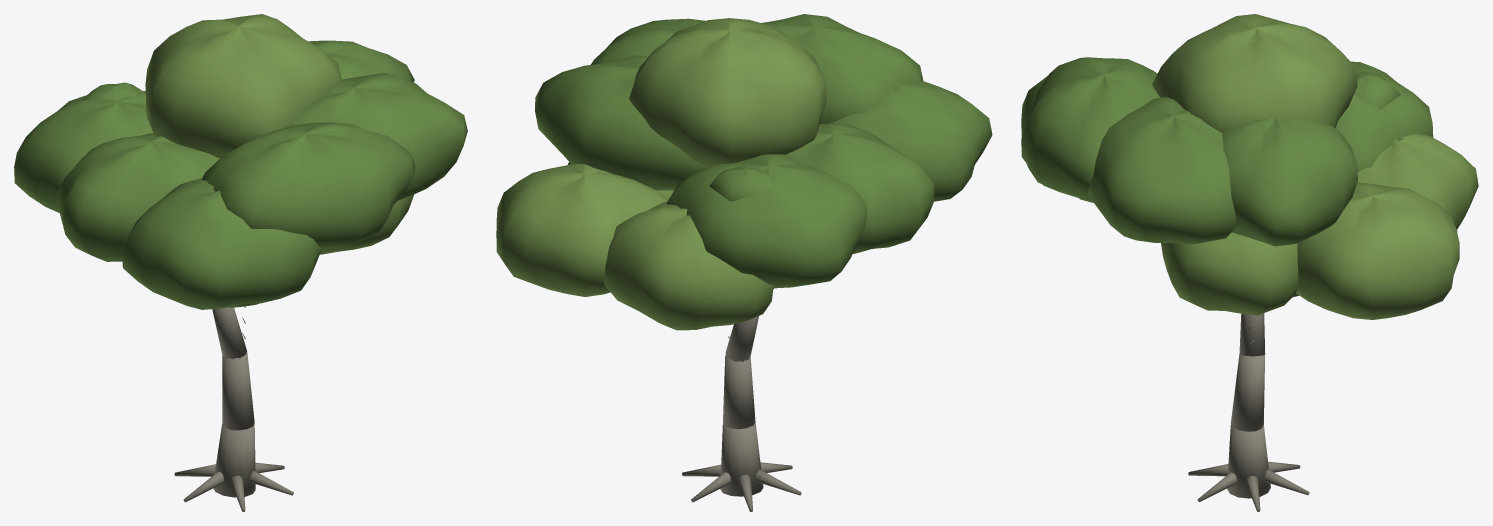
File: beech_canopy_0.glb
3 renders of one model, left to right at view 1: azimuth 30°, elevation 25°; view 2: azimuth 150°, elevation 25°; view 3: azimuth 270°, elevation 25°, orthographic.
Visible parts, largest first — view 1: beech_canopy_0_painted_export; view 2: beech_canopy_0_painted_export; view 3: beech_canopy_0_painted_export.
Part boxes in pixels (bbox=[...]): beech_canopy_0_painted_export: bbox=[14, 14, 467, 511]; beech_canopy_0_painted_export: bbox=[496, 14, 992, 511]; beech_canopy_0_painted_export: bbox=[1021, 14, 1478, 511].
Size of the model in its own units: 12.78 by 15.23 by 13.53.
